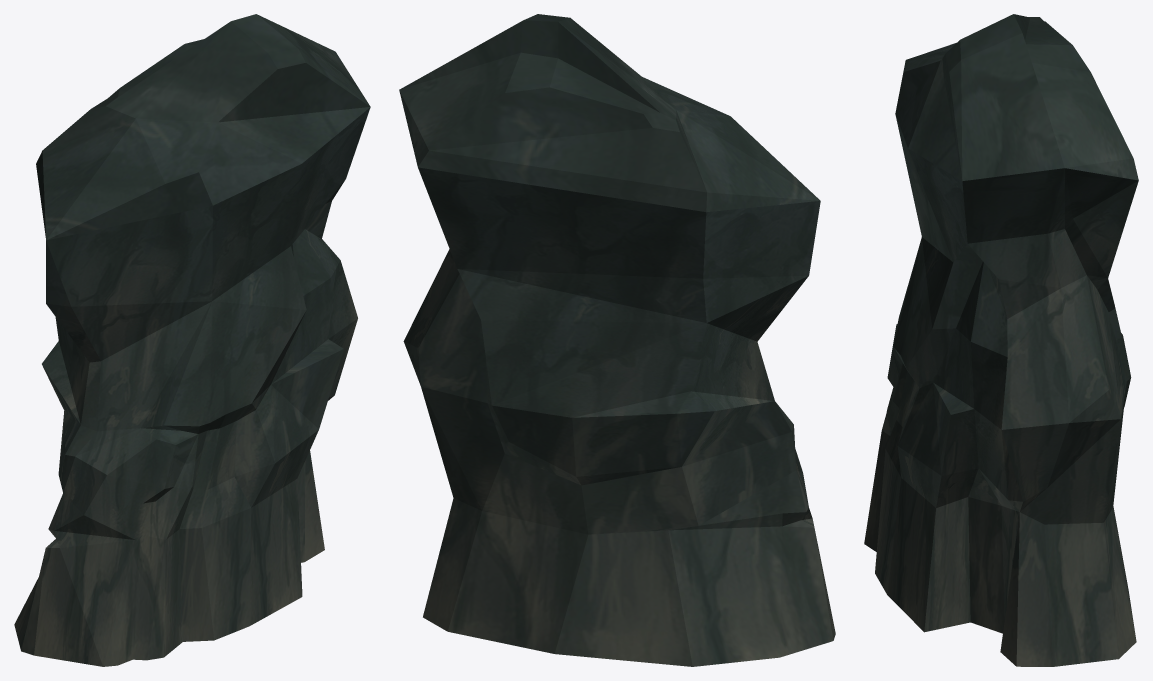
The model's file is ETC0610070.fbx.
3 views of the same model, side by side, from view 1: azimuth 30°, elevation 25°; view 2: azimuth 150°, elevation 25°; view 3: azimuth 270°, elevation 25° (orthographic). The views are drawn at different scales.
Visible parts, largest first — view 1: smETC0610070; view 2: smETC0610070; view 3: smETC0610070.
Part boxes in pixels (x1,y1,x2,y2): smETC0610070: [14, 14, 370, 666]; smETC0610070: [399, 14, 835, 666]; smETC0610070: [864, 14, 1138, 666].
Bounding box in the file's own units: 192 × 279 × 115.
1 material, 1 textured.
